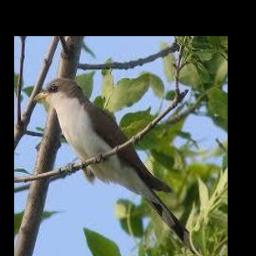Cuckoo: (33, 78, 200, 256)
